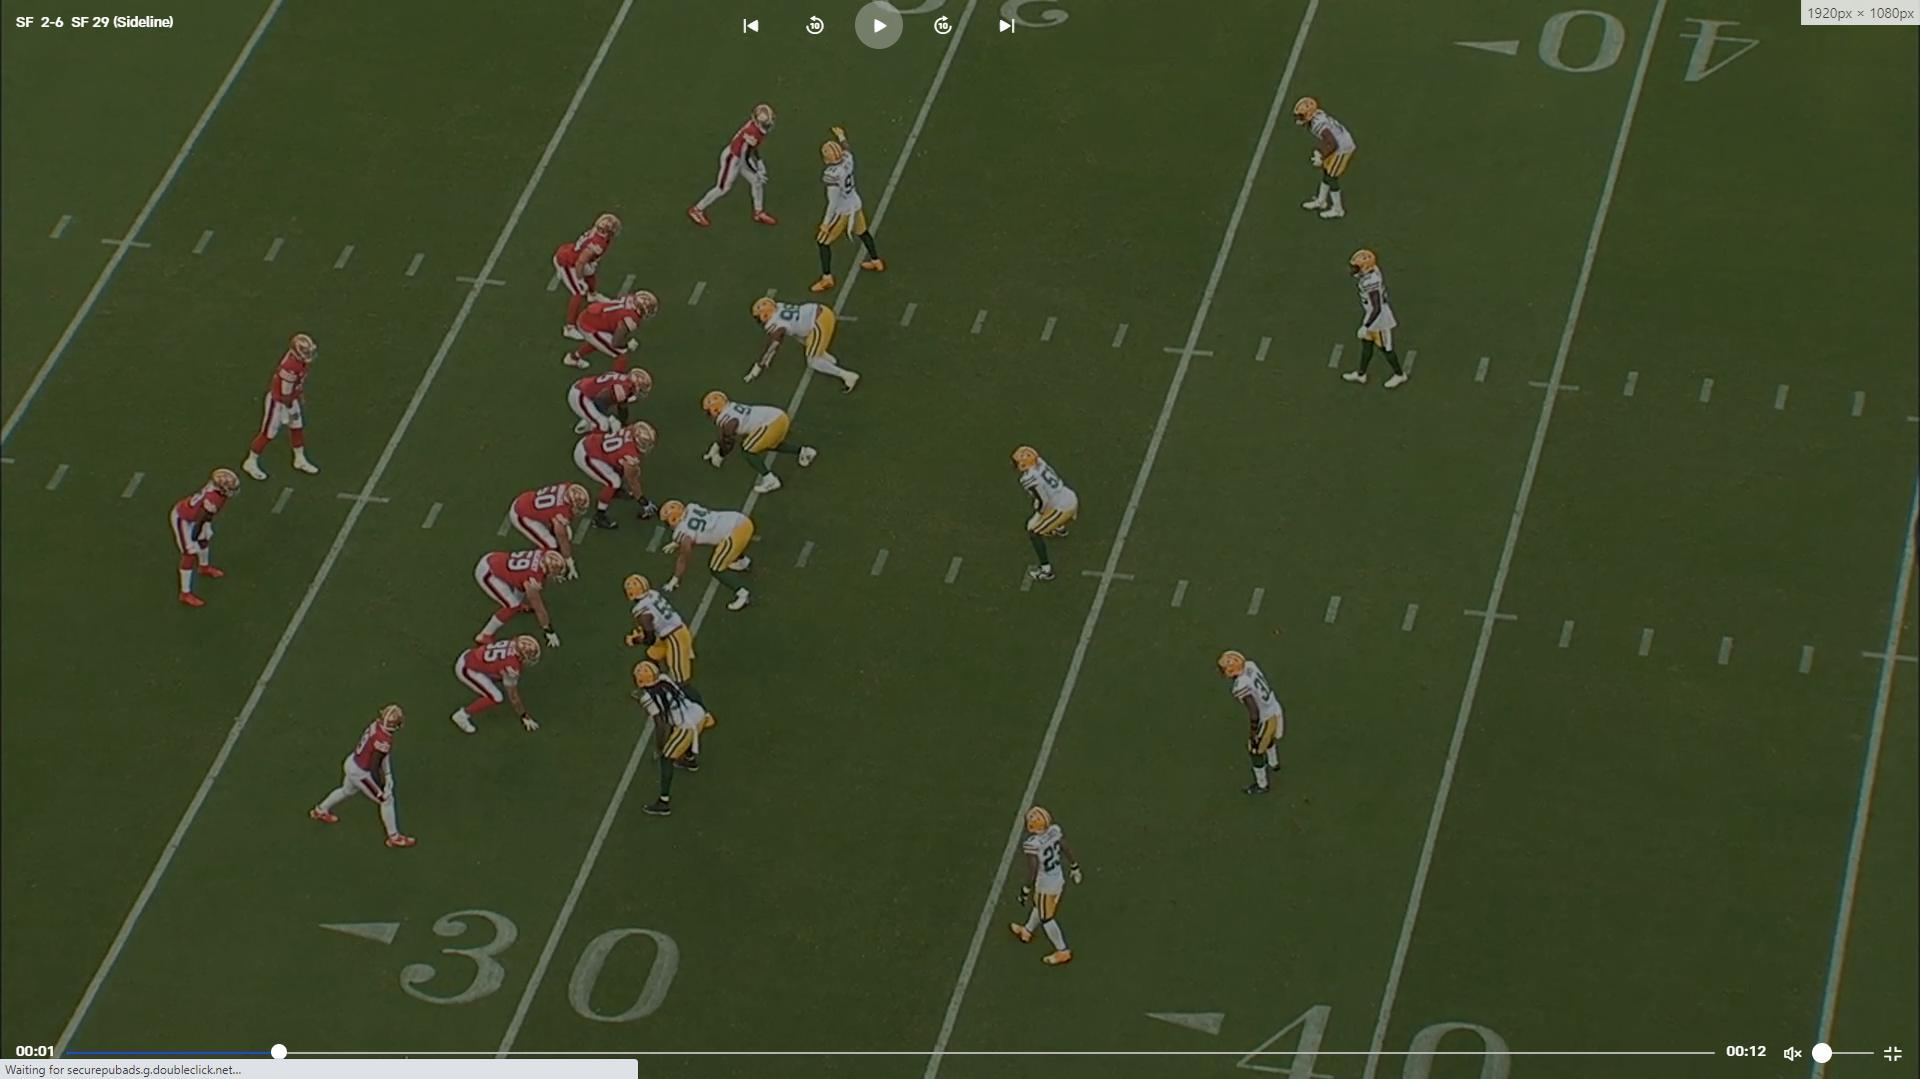defense: (620, 571, 712, 731), (653, 496, 761, 615), (814, 140, 894, 292), (698, 394, 814, 499), (1013, 805, 1084, 973), (633, 660, 709, 817), (1217, 649, 1291, 807), (753, 298, 868, 394), (1014, 441, 1084, 583), (1346, 247, 1414, 389), (1291, 91, 1358, 222)
oline: (469, 549, 566, 653), (580, 426, 663, 525), (510, 481, 587, 583), (567, 292, 662, 373), (570, 368, 655, 435)
qb: (236, 328, 320, 480)
skill: (314, 706, 421, 856), (679, 96, 777, 231), (174, 467, 243, 615), (447, 629, 541, 737), (553, 208, 624, 340)
